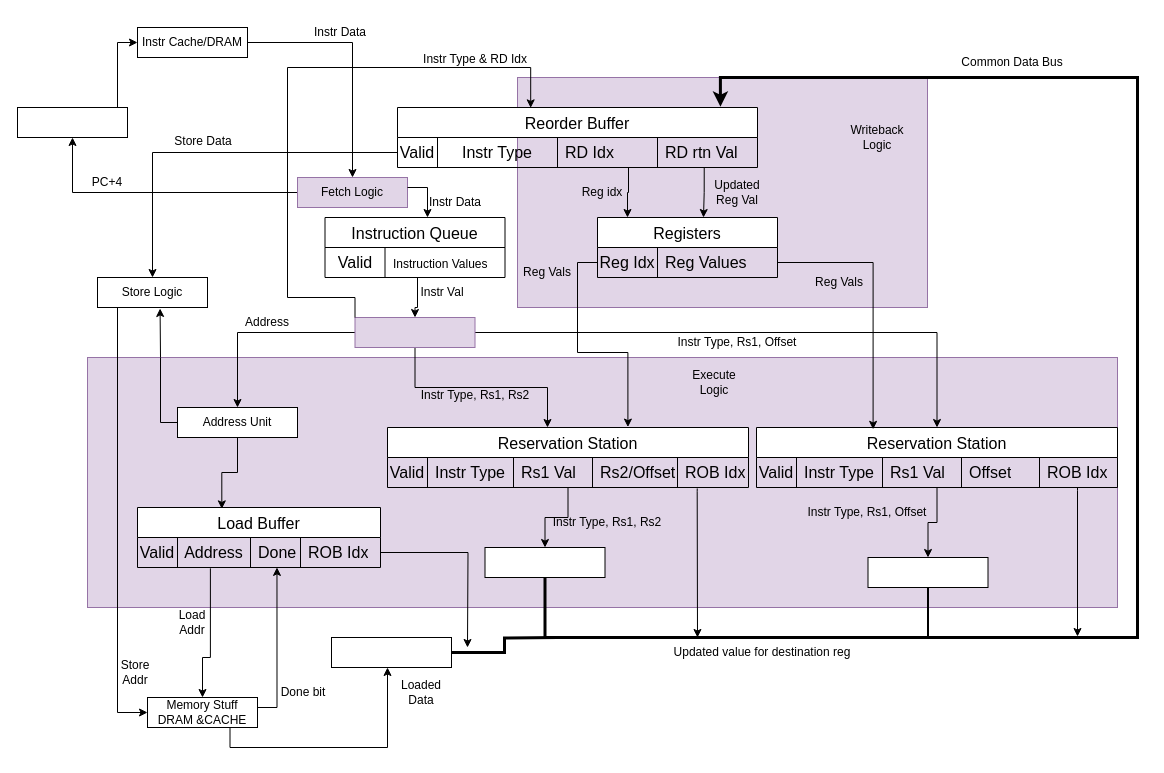
This 1164x773 diagram has some shape labels left out. The shapes that lost their labels are listed below. From the top down, each one's box as (x1, y1, x2, y2) in pixels, then its label:
(16, 106, 128, 138): PC
(354, 316, 475, 348): Decode/ Dispatch Logic
(484, 546, 605, 578): INT ALU
(867, 556, 988, 588): BR
(330, 636, 452, 668): Load Logic
